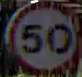Speed limit: (3, 1, 81, 71)
